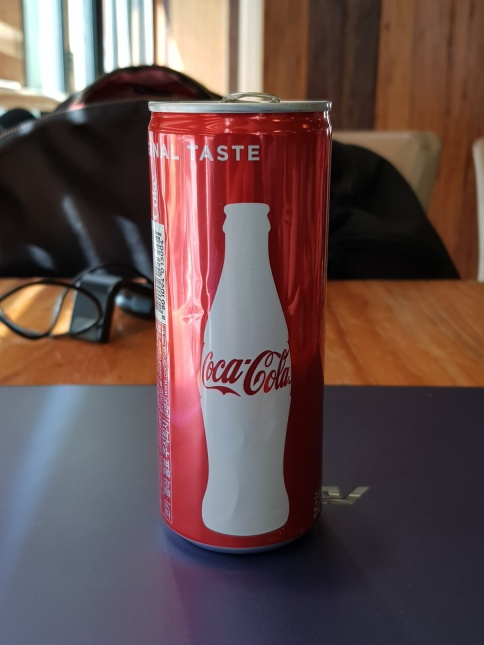Can: (145, 84, 339, 555)
